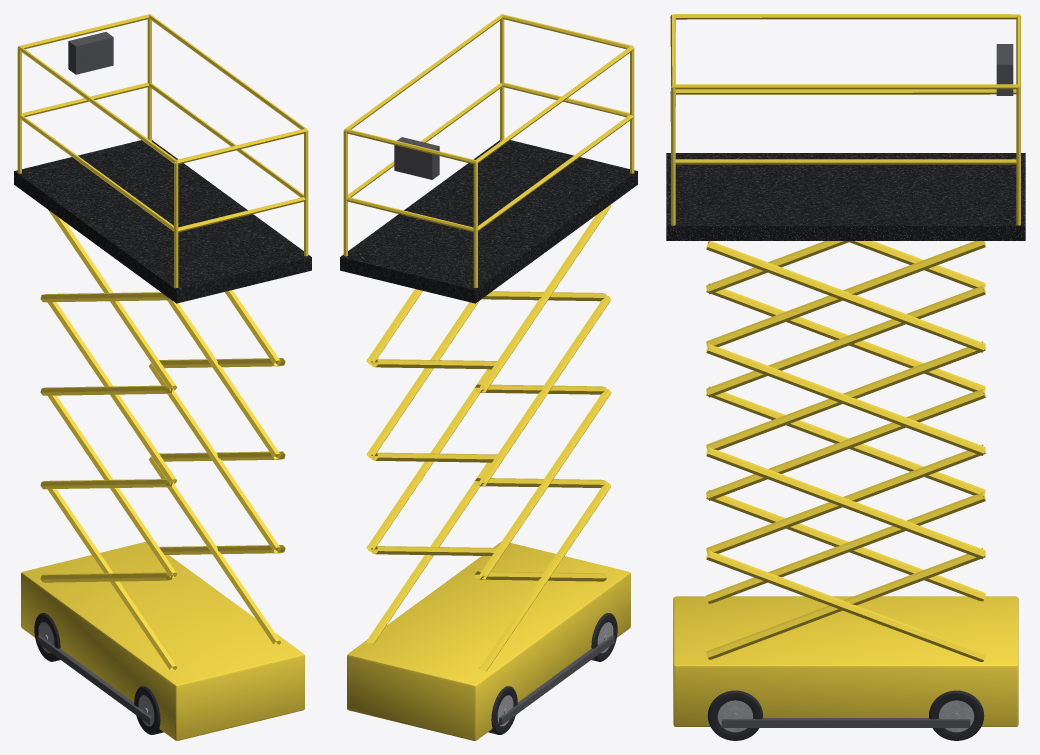
Rendered from lift_scissor_yellow.gltf.
The picture shows the model from 3 angles, left to right: view 1: azimuth 30°, elevation 25°; view 2: azimuth 150°, elevation 25°; view 3: azimuth 270°, elevation 25°; orthographic projection. The views are drawn at different scales.
Parts seen in each view (by area): view 1: lift_scissor_yellow; view 2: lift_scissor_yellow; view 3: lift_scissor_yellow.
Part boxes in pixels (x1,y1,x2,y2): lift_scissor_yellow: [14, 14, 311, 740]; lift_scissor_yellow: [340, 14, 637, 740]; lift_scissor_yellow: [666, 14, 1025, 740].
Bounding box in the file's own units: 1.28 × 5.24 × 2.6.
8 materials, 5 textured.
